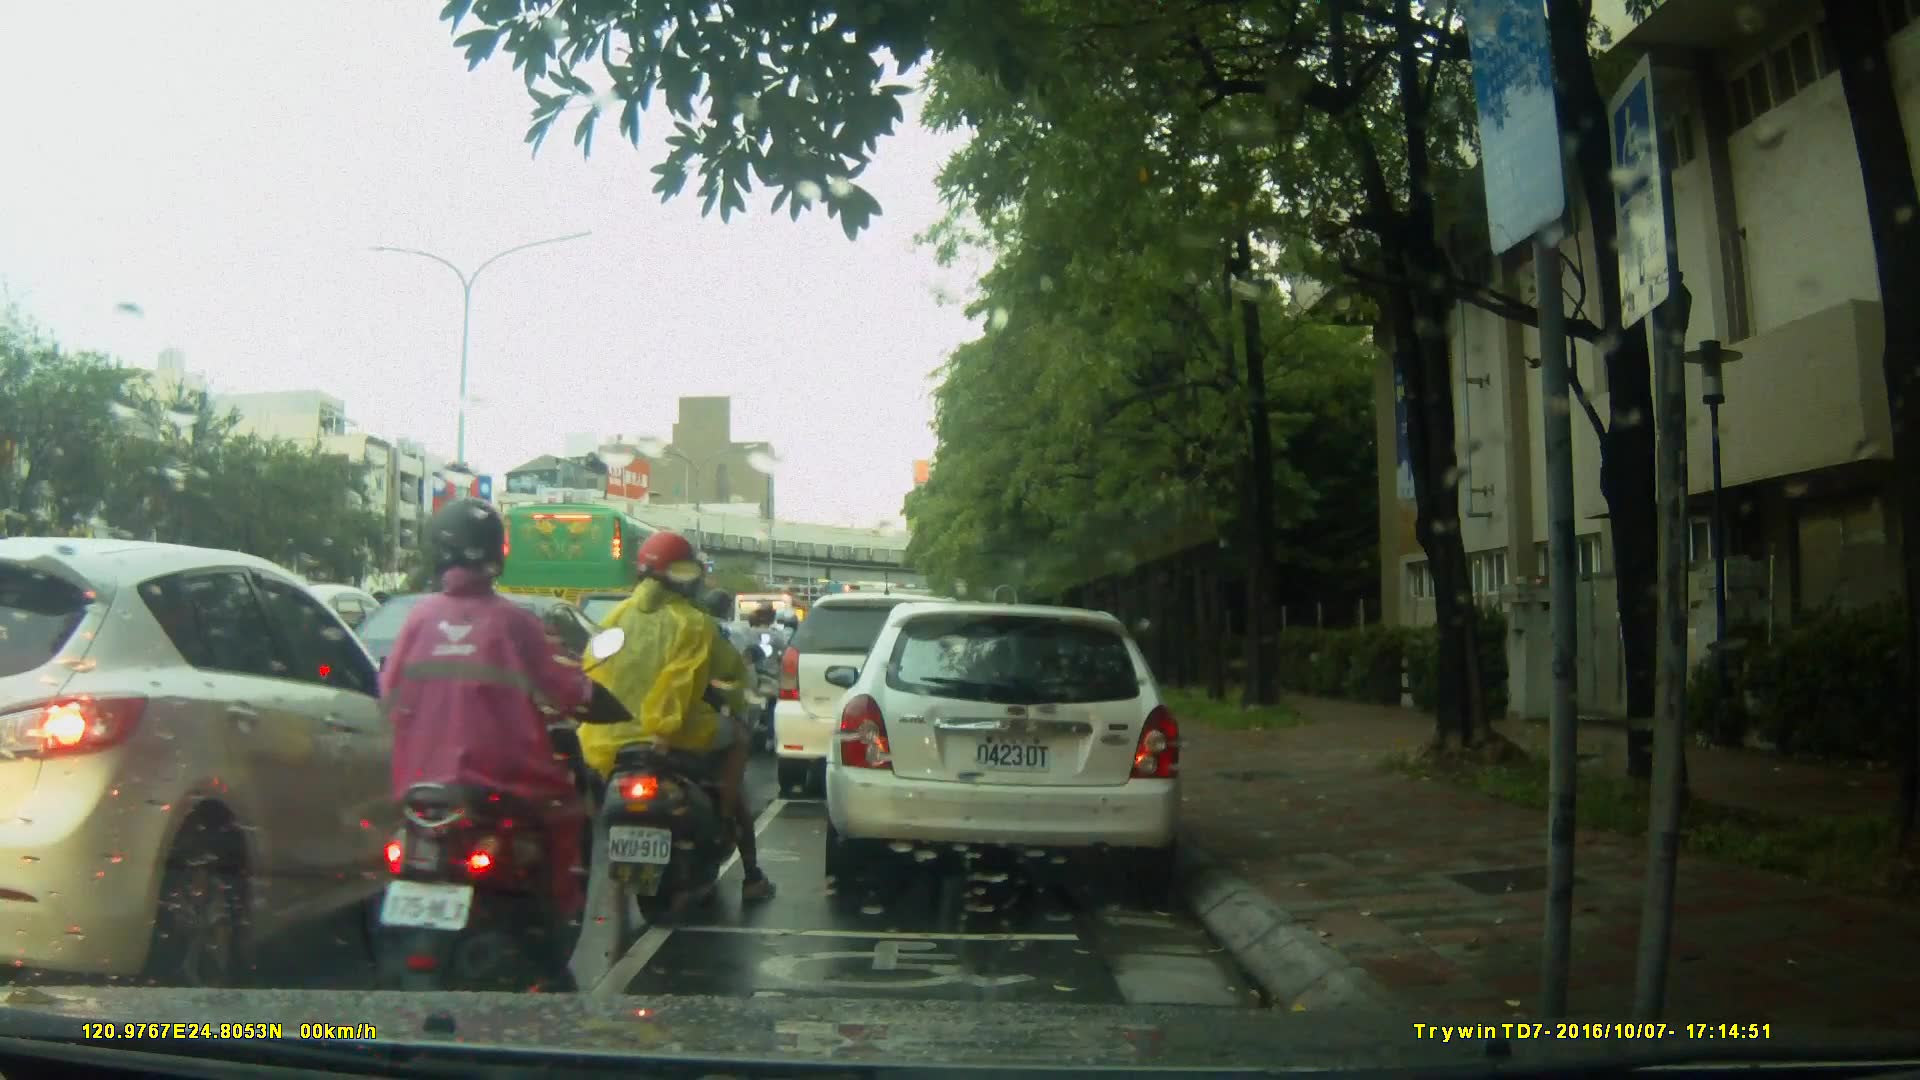rider: (356, 499, 588, 1022), (577, 531, 771, 916), (691, 589, 772, 780), (738, 601, 798, 740)
vehicle: (4, 536, 466, 988), (831, 592, 1196, 897), (318, 589, 629, 776), (770, 590, 999, 804), (495, 499, 710, 636)
